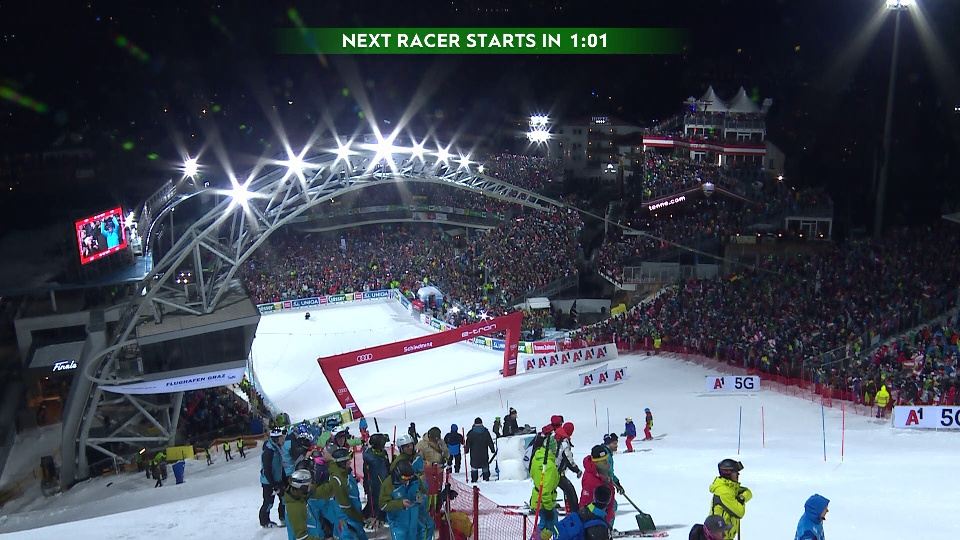5g: (735, 371, 759, 389), (935, 412, 959, 430)
a1: (904, 408, 927, 428), (711, 378, 729, 391), (615, 368, 628, 383), (583, 373, 596, 388), (597, 370, 609, 386)
audi: (354, 350, 378, 366)
etron: (402, 338, 436, 355)
